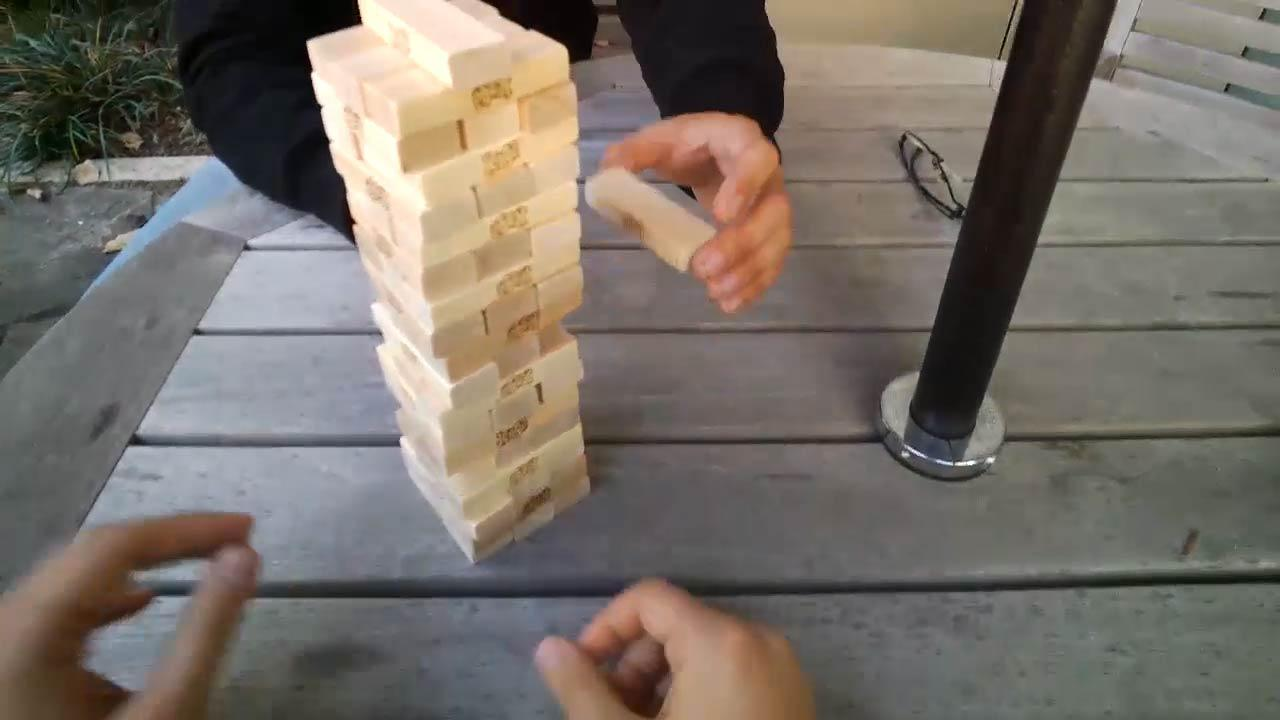hand: (1, 500, 258, 720), (530, 570, 818, 720), (594, 111, 797, 313)
